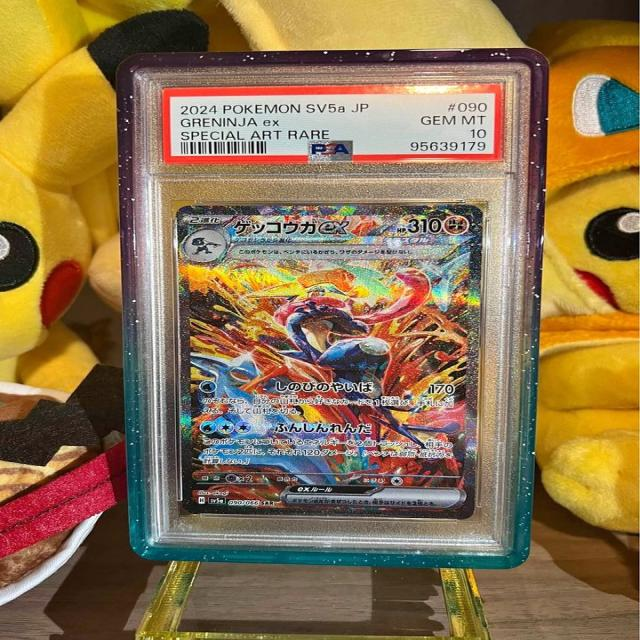card: (175, 204, 485, 520)
